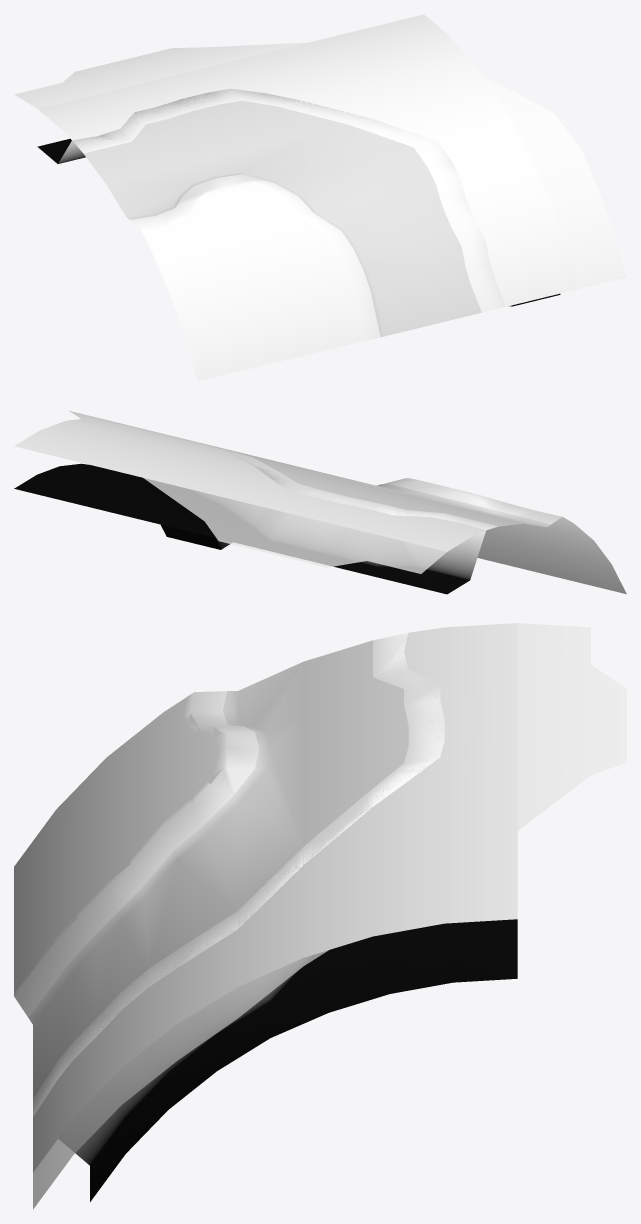
The model's file is grd_Ine_2.dae.
3 renders of one model, top to bottom at view 1: azimuth 30°, elevation 25°; view 2: azimuth 150°, elevation 25°; view 3: azimuth 270°, elevation 25°, orthographic. The views are drawn at different scales.
Visible parts, largest first — view 1: grd_Ine_2; view 2: grd_Ine_2; view 3: grd_Ine_2.
Boxes of the visible parts, x1,y1,x2,y2 form: grd_Ine_2: (14,14,626,381); grd_Ine_2: (14,411,626,594); grd_Ine_2: (14,623,626,1209).
Bounding box in the file's own units: 576 × 228 × 448.
6 materials, 1 textured.
